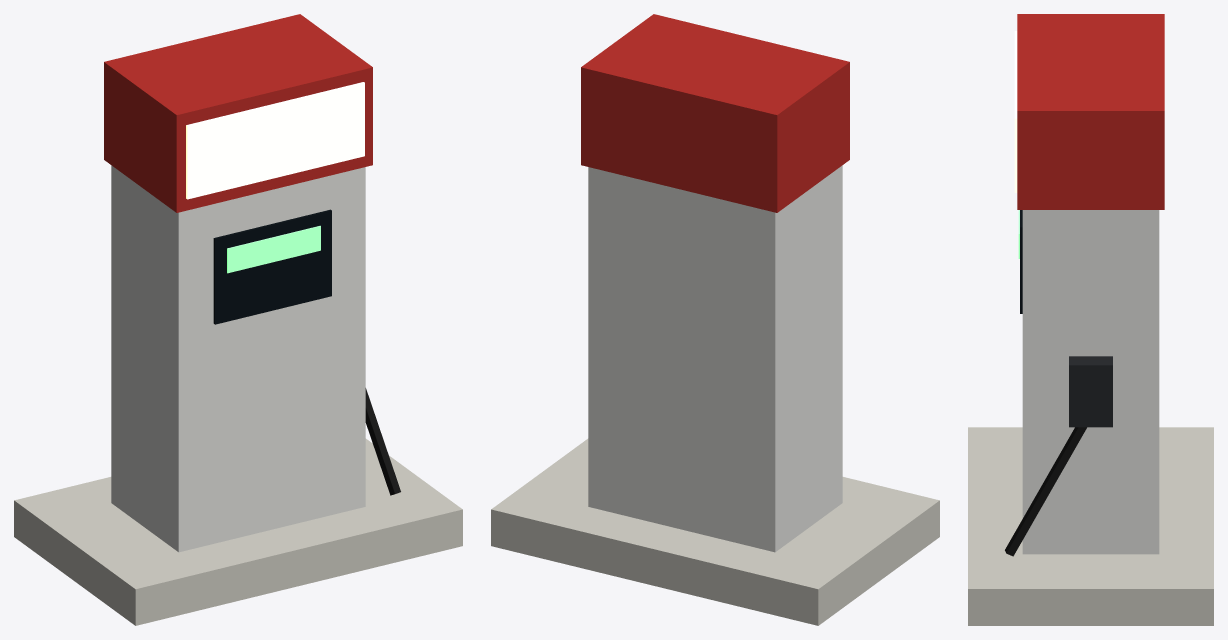
The model's file is sb_gas_pump.glb.
3 renders of one model, left to right at view 1: azimuth 30°, elevation 25°; view 2: azimuth 150°, elevation 25°; view 3: azimuth 270°, elevation 25°, orthographic.
Parts seen in each view (by area): view 1: sb_gas_pump; view 2: sb_gas_pump; view 3: sb_gas_pump.
Boxes of the visible parts, box(x1,y1,x2,y2) form: sb_gas_pump: box(14, 14, 462, 625); sb_gas_pump: box(491, 14, 939, 625); sb_gas_pump: box(968, 14, 1213, 625).
Bounding box in the file's own units: 1.4 × 1.95 × 0.9.
